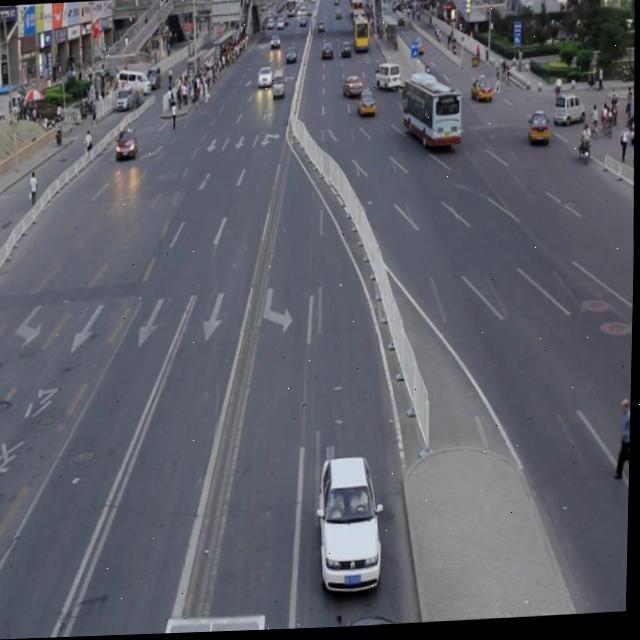bus: (161, 611, 269, 635)
car: (317, 455, 386, 597), (340, 615, 410, 629)
